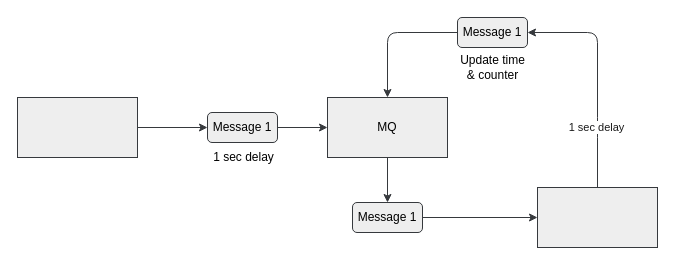
Image size: 675x265. Some labels were removed from this diagram. Here are the shapes that lost their labels. From the top down, the centre of each, then its label:
pixel 77 127: Producer
pixel 597 217: Consumer
